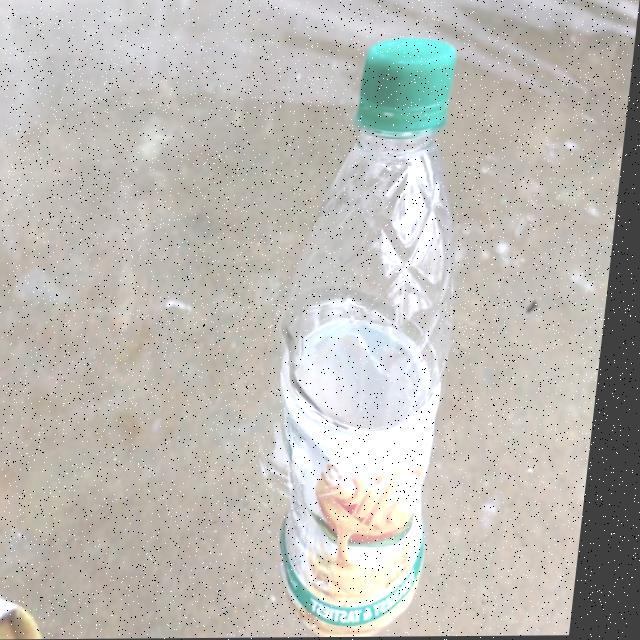leaf: (0, 562, 66, 640)
waterbottle: (243, 26, 493, 623)
